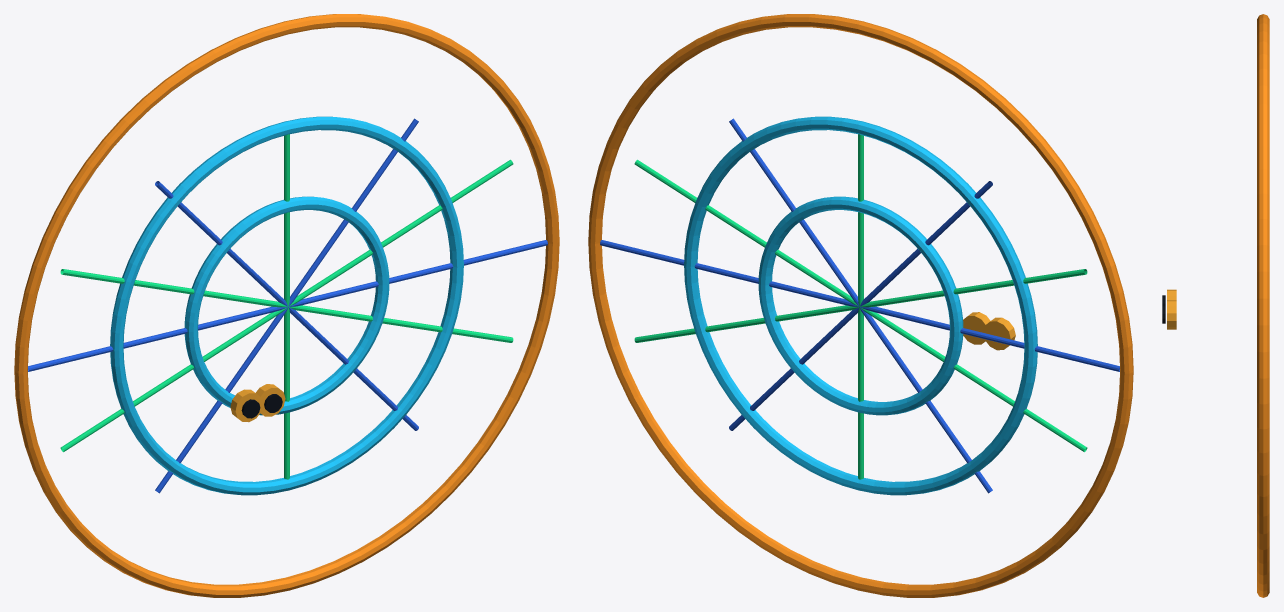
Rendered from 67_L87_GravityHabitatEnvironmentHologram.fbx.
The picture shows the model from 3 angles, left to right: view 1: azimuth 30°, elevation 25°; view 2: azimuth 150°, elevation 25°; view 3: azimuth 270°, elevation 25°; orthographic projection. The views are drawn at different scales.
Visible parts, largest first — view 1: L87_GravityHabitatEnvironmentHologram_Part_0001, L87_GravityHabitatEnvironmentHologram_Part_0000, L87_GravityHabitatEnvironmentHologram_Part_0003, L87_GravityHabitatEnvironmentHologram_Part_0002; view 2: L87_GravityHabitatEnvironmentHologram_Part_0001, L87_GravityHabitatEnvironmentHologram_Part_0000, L87_GravityHabitatEnvironmentHologram_Part_0003, L87_GravityHabitatEnvironmentHologram_Part_0002; view 3: L87_GravityHabitatEnvironmentHologram_Part_0001, L87_GravityHabitatEnvironmentHologram_Part_0006.
Boxes of the visible parts, x1,y1,x2,y2 form: L87_GravityHabitatEnvironmentHologram_Part_0001: [14, 14, 559, 597]; L87_GravityHabitatEnvironmentHologram_Part_0000: [110, 116, 463, 495]; L87_GravityHabitatEnvironmentHologram_Part_0003: [60, 134, 513, 479]; L87_GravityHabitatEnvironmentHologram_Part_0002: [28, 118, 547, 493]; L87_GravityHabitatEnvironmentHologram_Part_0001: [588, 14, 1133, 597]; L87_GravityHabitatEnvironmentHologram_Part_0000: [684, 116, 1037, 495]; L87_GravityHabitatEnvironmentHologram_Part_0003: [634, 134, 1087, 479]; L87_GravityHabitatEnvironmentHologram_Part_0002: [600, 118, 1119, 493]; L87_GravityHabitatEnvironmentHologram_Part_0001: [1257, 14, 1269, 597]; L87_GravityHabitatEnvironmentHologram_Part_0006: [1167, 300, 1176, 329].
Size of the model in its own units: 256 by 256 by 46.96.
